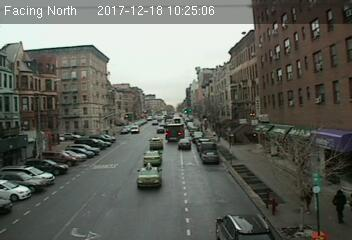car: (217, 210, 273, 240), (136, 165, 162, 186), (202, 149, 219, 165), (143, 149, 161, 164), (148, 137, 164, 148), (177, 139, 192, 148)
ups: (165, 124, 185, 141)
